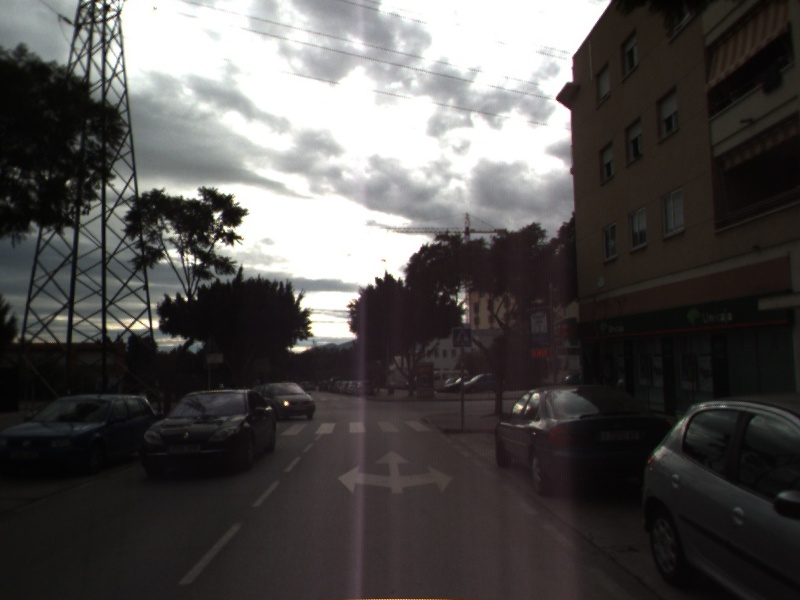STRAIGHT_LEFT_RIGHT: (335, 447, 457, 497)
